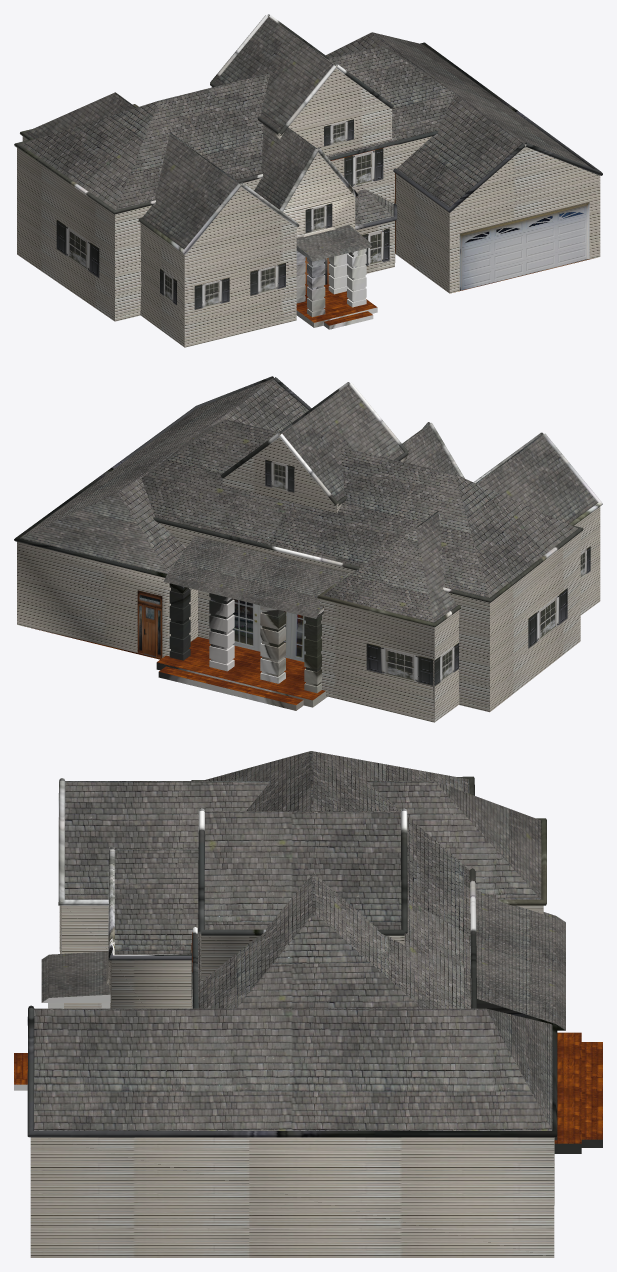
The model's file is Country Side House.obj.
The picture shows the model from 3 angles, top to bottom: view 1: azimuth 30°, elevation 25°; view 2: azimuth 150°, elevation 25°; view 3: azimuth 270°, elevation 25°; orthographic projection. The views are drawn at different scales.
Visible parts, largest first — view 1: object 5, garage__1, windows__1; view 2: object 5, windows__1, glass__1, doors__1; view 3: object 5.
Part boxes in pixels (x1,y1,x2,y2): object 5: [14, 14, 602, 347]; garage__1: [459, 202, 589, 290]; windows__1: [56, 119, 389, 309]; object 5: [14, 376, 602, 722]; windows__1: [265, 459, 590, 686]; glass__1: [232, 599, 305, 661]; doors__1: [137, 590, 162, 658]; object 5: [14, 751, 602, 1257].
Size of the model in its own units: 2007 by 885 by 1570.
